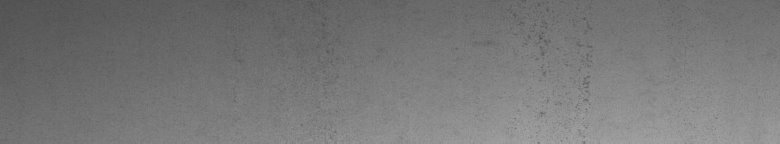ib: (484, 4, 593, 117)
